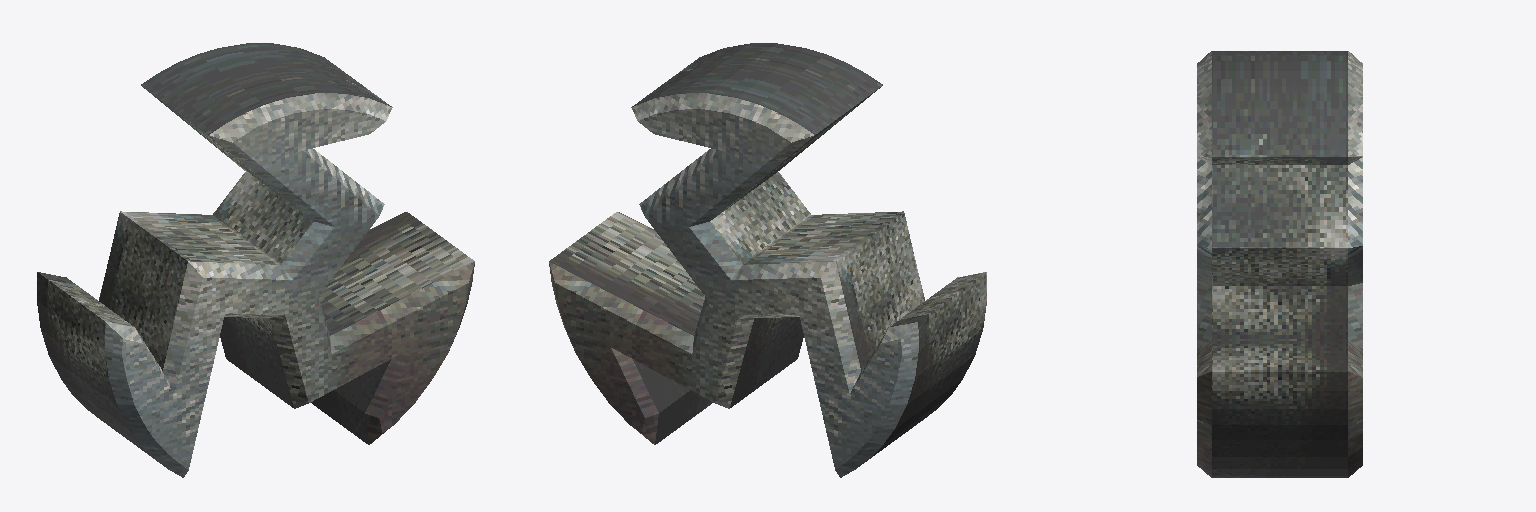
The picture shows the model from 3 angles: view 1: azimuth 30°, elevation 25°; view 2: azimuth 150°, elevation 25°; view 3: azimuth 270°, elevation 25°; orthographic projection.
Bounding box in the file's own units: 4.79 × 4.55 × 1.87.
1 materials, 1 textured.